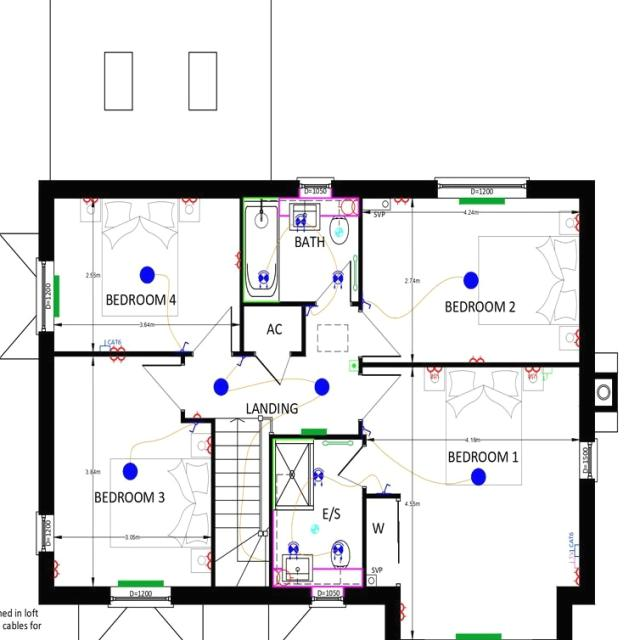Cat 6 Data Socket: (559, 529, 585, 558), (96, 331, 112, 353)
Ceiling Mounted Continuous Extract Fan With Boost Mode Activated By Light Switch: (325, 220, 348, 246), (304, 520, 328, 538)
Co-Ax TV Socket: (553, 554, 586, 567)
Double Socket: (460, 349, 496, 364), (561, 566, 584, 587), (199, 429, 215, 455), (226, 248, 243, 272), (569, 323, 581, 356), (570, 208, 583, 238), (78, 196, 107, 208), (110, 338, 134, 351), (400, 598, 410, 629), (389, 196, 416, 207), (55, 555, 65, 584), (177, 197, 204, 206), (107, 355, 129, 366), (205, 545, 213, 575)
Full Height Tiling: (240, 191, 278, 303), (268, 433, 315, 514)
Light Switch: (178, 419, 205, 436), (362, 416, 381, 438), (172, 335, 193, 353), (362, 288, 376, 314), (373, 477, 399, 491), (230, 355, 253, 370), (304, 303, 318, 321)
Low Energy Downlighter: (290, 205, 312, 236), (328, 537, 349, 566), (309, 464, 330, 493), (254, 268, 277, 293), (284, 540, 304, 564), (330, 266, 347, 292)
Low Energy Pendant Light: (308, 371, 340, 401), (120, 452, 144, 484), (463, 464, 489, 493), (212, 368, 234, 402), (133, 260, 160, 286), (457, 264, 481, 292)
Programmable Room Thermostat: (344, 355, 359, 380)
Radiator: (54, 266, 72, 322), (452, 625, 511, 640), (451, 195, 512, 209), (115, 572, 168, 588), (296, 423, 334, 436)
Shaver Socket: (333, 195, 360, 216), (272, 567, 298, 587)
Single Socket: (189, 408, 207, 420)
Telephone Socket: (542, 365, 563, 385)
USB Double Socket: (511, 364, 544, 384), (423, 364, 450, 385)
